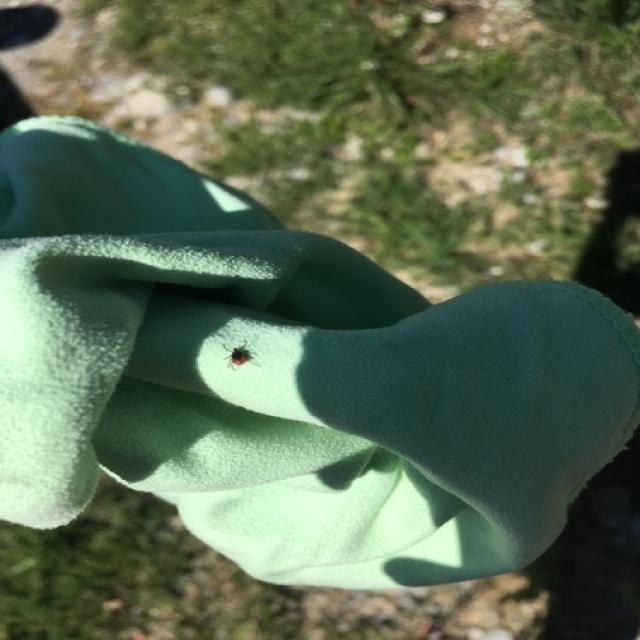Ixodes Ricinus-F: (227, 343, 256, 370)
